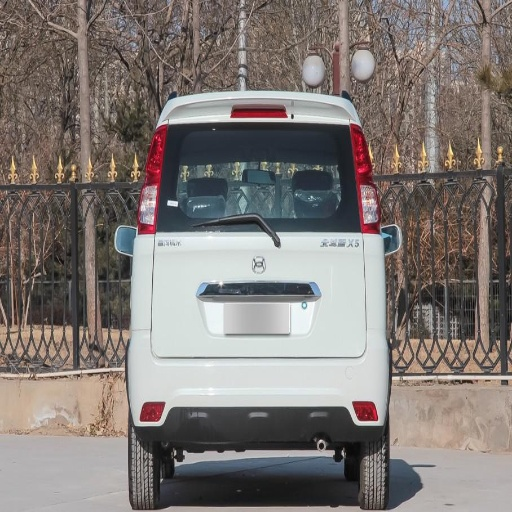back_bumper: (129, 299, 386, 446)
trunk: (145, 210, 385, 358), (396, 176, 477, 258)
